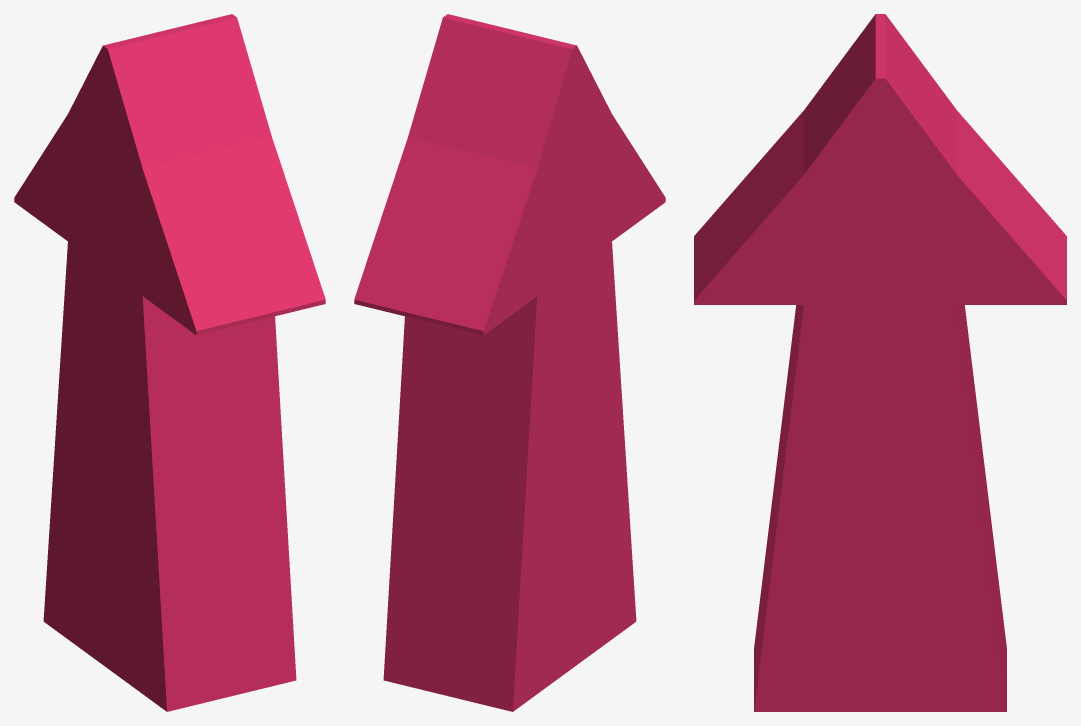
File: arrow.glb
The picture shows the model from 3 angles, left to right: view 1: azimuth 30°, elevation 25°; view 2: azimuth 150°, elevation 25°; view 3: azimuth 270°, elevation 25°; orthographic projection. The views are drawn at different scales.
Parts seen in each view (by area): view 1: Arrow; view 2: Arrow; view 3: Arrow.
Boxes of the visible parts, <box> form: Arrow: <box>14,14,325,711</box>; Arrow: <box>354,14,665,711</box>; Arrow: <box>694,14,1066,711</box>.
Size of the model in its own units: 2 by 9.15 by 4.88.
